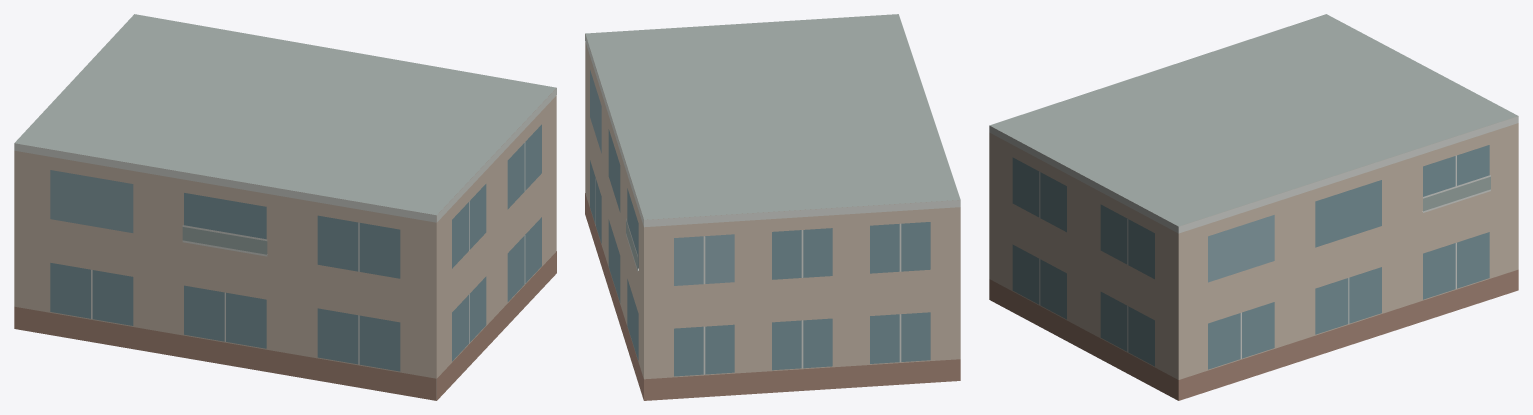
File: survey-upis-32711927.glb
3 views of the same model, side by side, from view 1: azimuth 30°, elevation 25°; view 2: azimuth 150°, elevation 25°; view 3: azimuth 270°, elevation 25° (orthographic). The views are drawn at different scales.
Visible parts, largest first — view 1: survey-upis-32711927.tmp; view 2: survey-upis-32711927.tmp; view 3: survey-upis-32711927.tmp.
Part boxes in pixels (left/top/right/bottom): survey-upis-32711927.tmp: left=14, top=14, right=556, bottom=400; survey-upis-32711927.tmp: left=585, top=14, right=960, bottom=400; survey-upis-32711927.tmp: left=989, top=14, right=1518, bottom=400.
Size of the model in its own units: 15.96 by 6.1 by 16.8.
